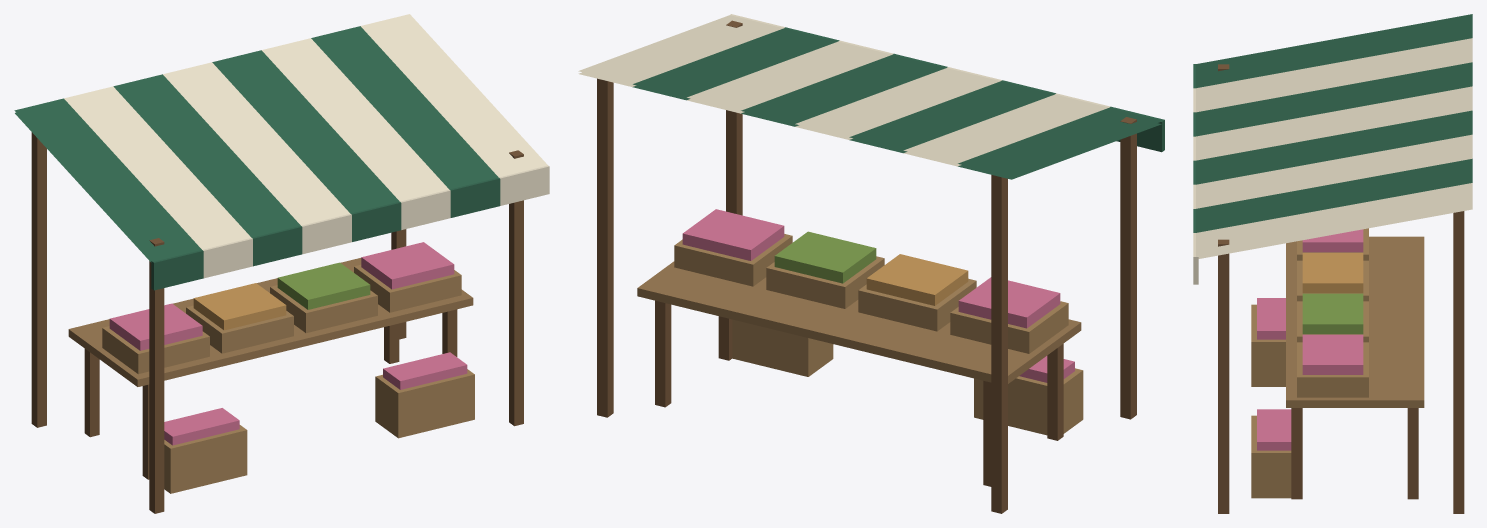
The model's file is life_stall_b.glb.
3 views of the same model, side by side, from view 1: azimuth 30°, elevation 25°; view 2: azimuth 150°, elevation 25°; view 3: azimuth 270°, elevation 25° (orthographic). The views are drawn at different scales.
Visible parts, largest first — view 1: life_stall_b; view 2: life_stall_b; view 3: life_stall_b.
Part boxes in pixels (bbox=[...]): life_stall_b: bbox=[14, 14, 549, 513]; life_stall_b: bbox=[578, 14, 1164, 513]; life_stall_b: bbox=[1193, 14, 1472, 513].
Bounding box in the file's own units: 3.3 × 2.5 × 2.02.
